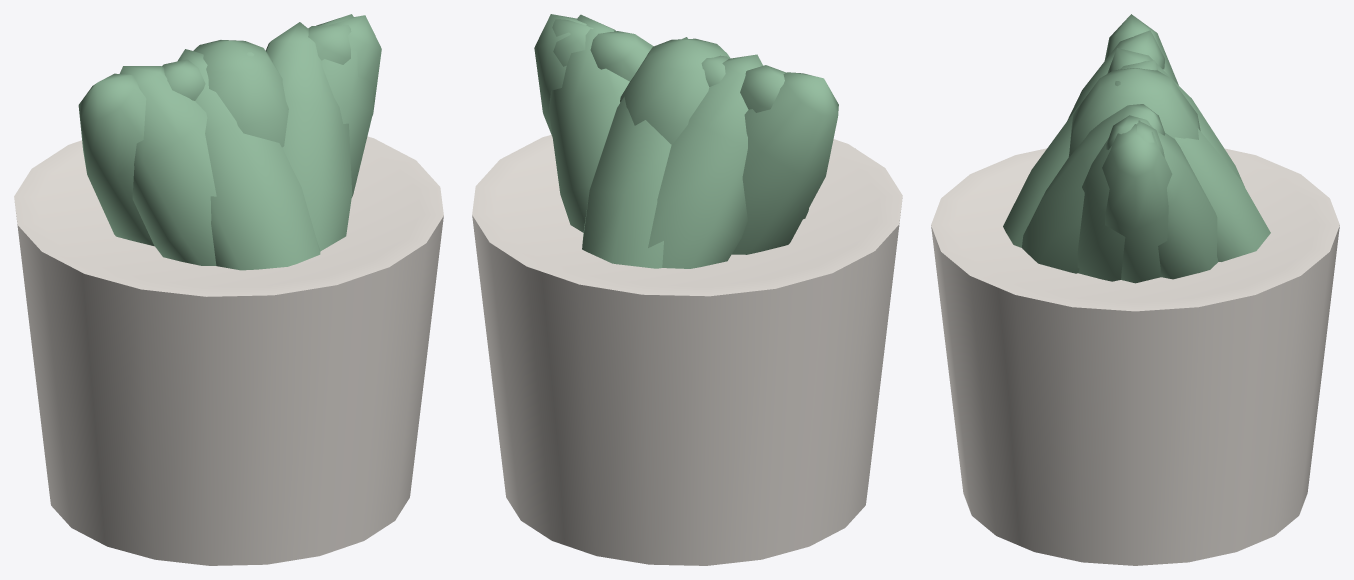
File: succulent_desk.fbx
The picture shows the model from 3 angles, left to right: view 1: azimuth 30°, elevation 25°; view 2: azimuth 150°, elevation 25°; view 3: azimuth 270°, elevation 25°; orthographic projection. The views are drawn at different scales.
Parts seen in each view (by area): view 1: succulent_desk; view 2: succulent_desk; view 3: succulent_desk.
Boxes of the visible parts, <box> form: succulent_desk: <box>14,14,443,565</box>; succulent_desk: <box>472,14,902,565</box>; succulent_desk: <box>931,14,1339,565</box>.
Bounding box in the file's own units: 0.076 × 0.087 × 0.076.
